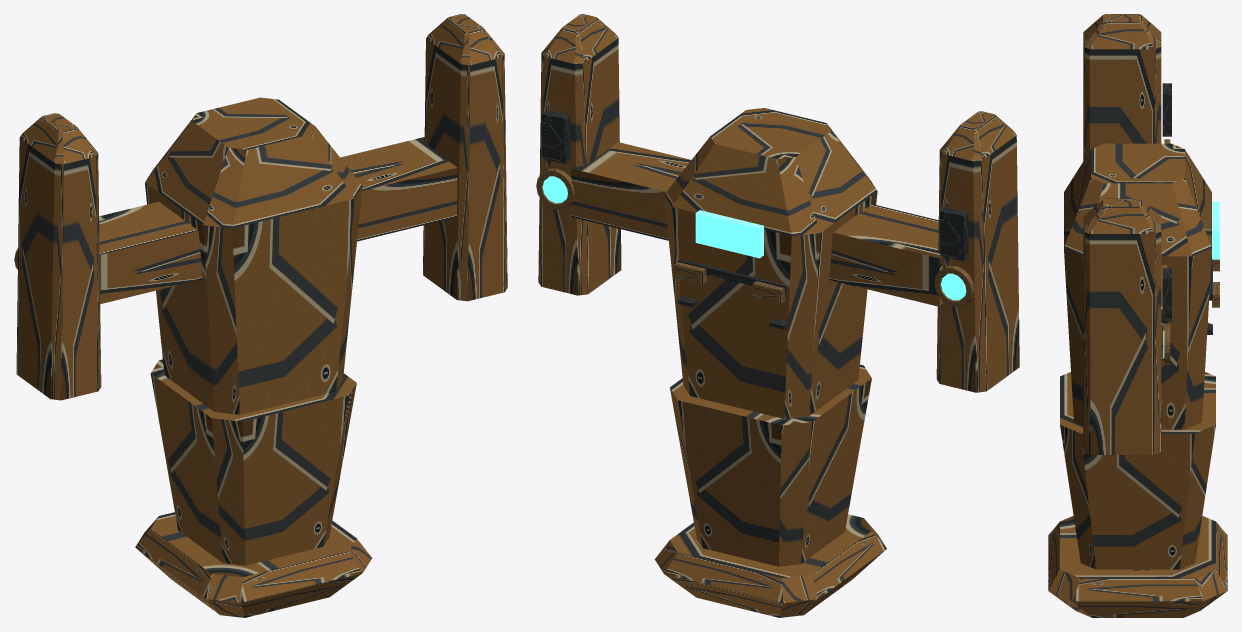
Rendered from inventory.glb.
3 renders of one model, left to right at view 1: azimuth 30°, elevation 25°; view 2: azimuth 150°, elevation 25°; view 3: azimuth 270°, elevation 25°, orthographic. The views are drawn at different scales.
Parts seen in each view (by area): view 1: STProp_inventory_Body; view 2: STProp_inventory_Body; view 3: STProp_inventory_Body.
Boxes of the visible parts, <box> form: STProp_inventory_Body: <box>14,14,507,617</box>; STProp_inventory_Body: <box>536,14,1019,617</box>; STProp_inventory_Body: <box>1048,14,1227,617</box>.
Size of the model in its own units: 1.26 by 1.4 by 0.46.
Materials: 5 (4 with a texture image).
